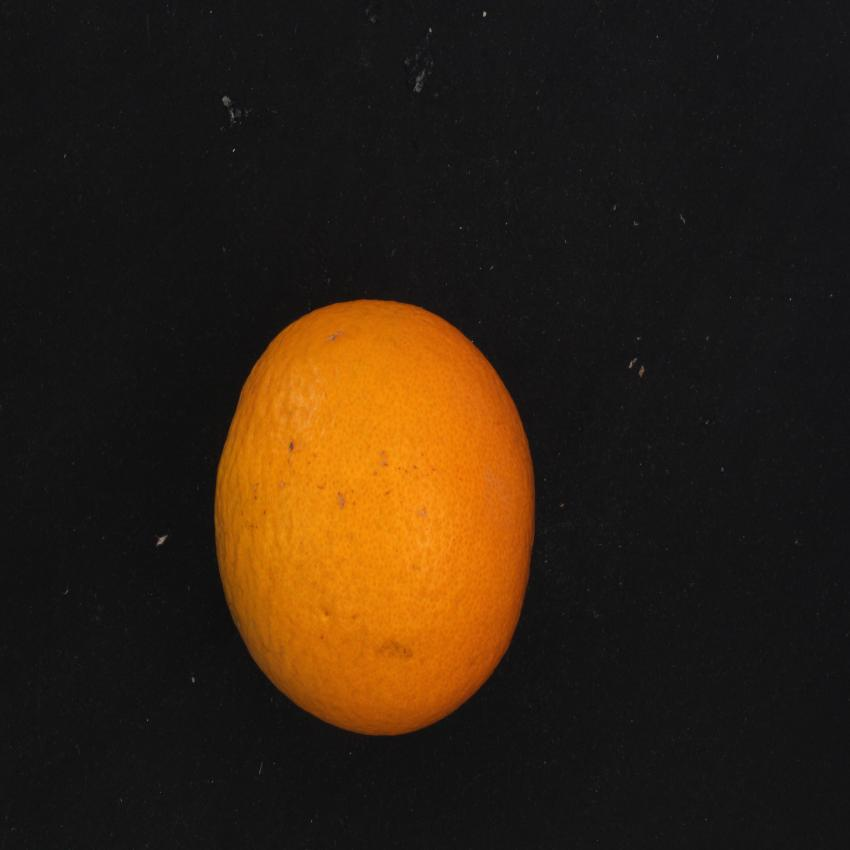Buen estado: (205, 283, 547, 751)
